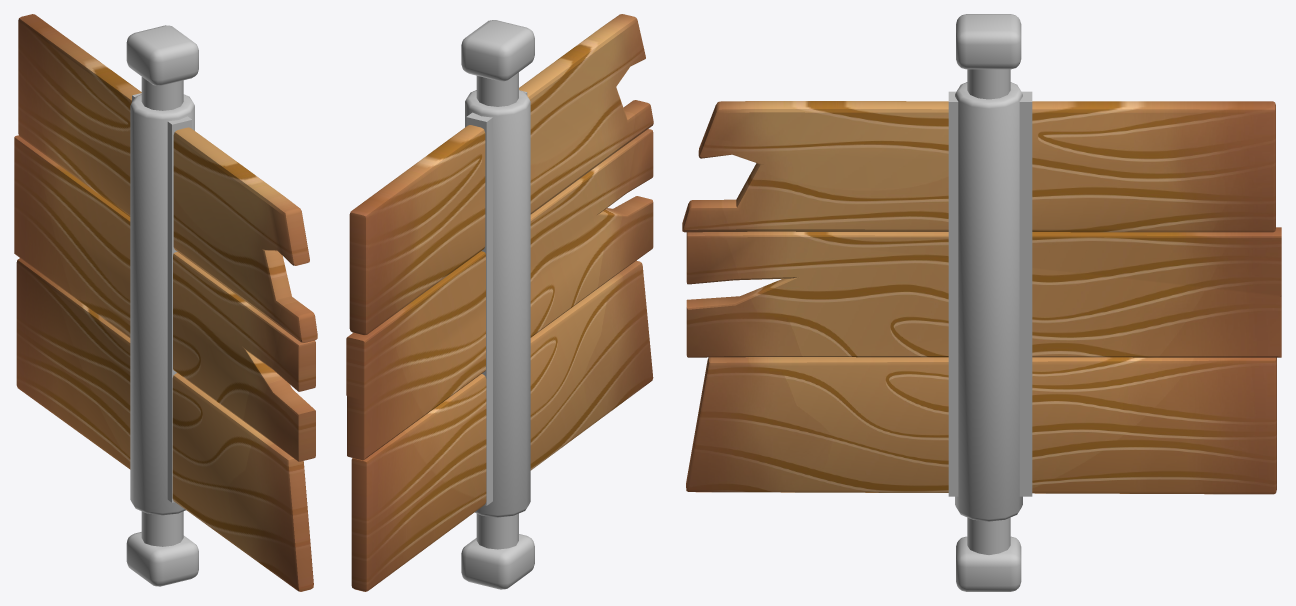
Rendered from Obstacle1.fbx.
3 views of the same model, side by side, from view 1: azimuth 30°, elevation 25°; view 2: azimuth 150°, elevation 25°; view 3: azimuth 270°, elevation 25° (orthographic). The views are drawn at different scales.
Parts seen in each view (by area): view 1: Cube.019, Obstacle-14.001; view 2: Cube.019, Obstacle-14.001; view 3: Cube.019, Obstacle-14.001.
Part boxes in pixels (box(x1,y1,x2,y2)): Cube.019: box(14, 14, 317, 591); Obstacle-14.001: box(126, 25, 198, 586); Cube.019: box(346, 14, 653, 591); Obstacle-14.001: box(461, 20, 534, 589); Cube.019: box(682, 91, 1281, 496); Obstacle-14.001: box(955, 14, 1022, 591).
Size of the model in its own units: 31.13 by 284 by 275.
